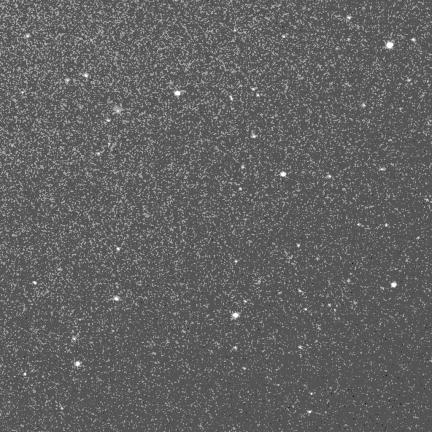blob: (386, 41, 394, 49), (391, 282, 398, 288), (233, 313, 240, 319), (280, 171, 286, 177), (175, 91, 181, 97), (75, 361, 80, 367), (252, 133, 257, 138), (114, 296, 119, 301), (243, 300, 248, 304), (117, 247, 121, 252), (84, 73, 88, 78), (65, 79, 70, 83), (72, 336, 76, 341), (234, 346, 238, 351), (380, 168, 386, 171), (297, 244, 301, 248), (347, 16, 351, 20), (97, 152, 101, 156), (33, 281, 37, 285), (241, 165, 245, 169), (26, 34, 30, 38), (411, 38, 416, 41), (327, 175, 332, 178), (328, 304, 332, 307), (362, 103, 365, 107), (230, 96, 233, 100), (23, 373, 27, 376), (243, 367, 247, 370), (106, 119, 110, 122), (408, 79, 412, 82), (310, 392, 314, 395), (282, 35, 286, 38), (307, 411, 312, 413), (347, 279, 350, 282), (239, 187, 242, 190), (358, 223, 361, 226), (257, 93, 259, 97), (385, 224, 388, 226), (235, 260, 237, 263)
